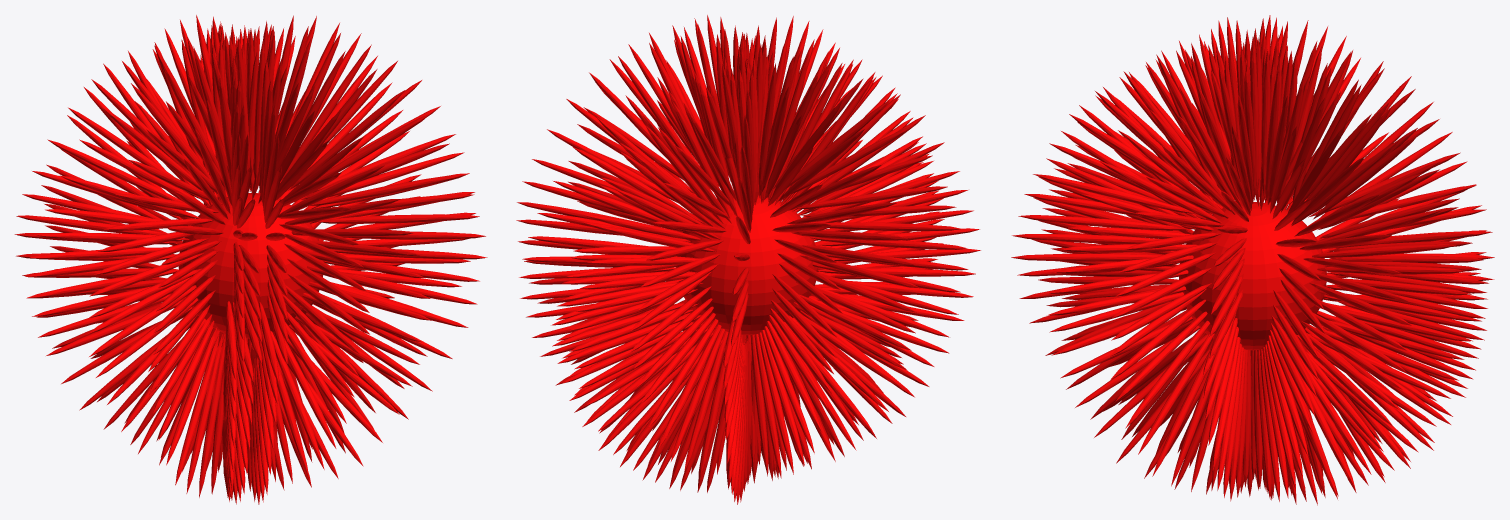
Rendered from fireworkred.glb.
3 renders of one model, left to right at view 1: azimuth 30°, elevation 25°; view 2: azimuth 150°, elevation 25°; view 3: azimuth 270°, elevation 25°, orthographic. The views are drawn at different scales.
Parts seen in each view (by area): view 1: sparks1; view 2: sparks1; view 3: sparks1.
Boxes of the visible parts, left/top/right/bottom form: sparks1: left=14, top=15, right=487, bottom=504; sparks1: left=516, top=15, right=980, bottom=504; sparks1: left=1011, top=15, right=1494, bottom=505.
Size of the model in its own units: 11.21 by 12 by 11.44.
